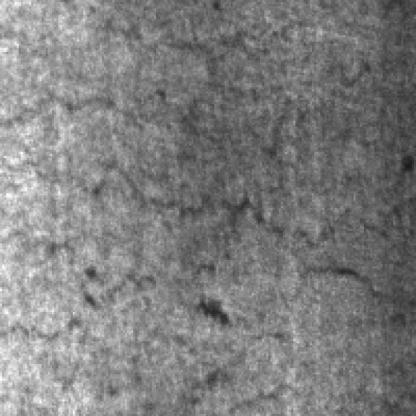crazing: (27, 58, 372, 279), (31, 285, 300, 408), (289, 183, 416, 312)
